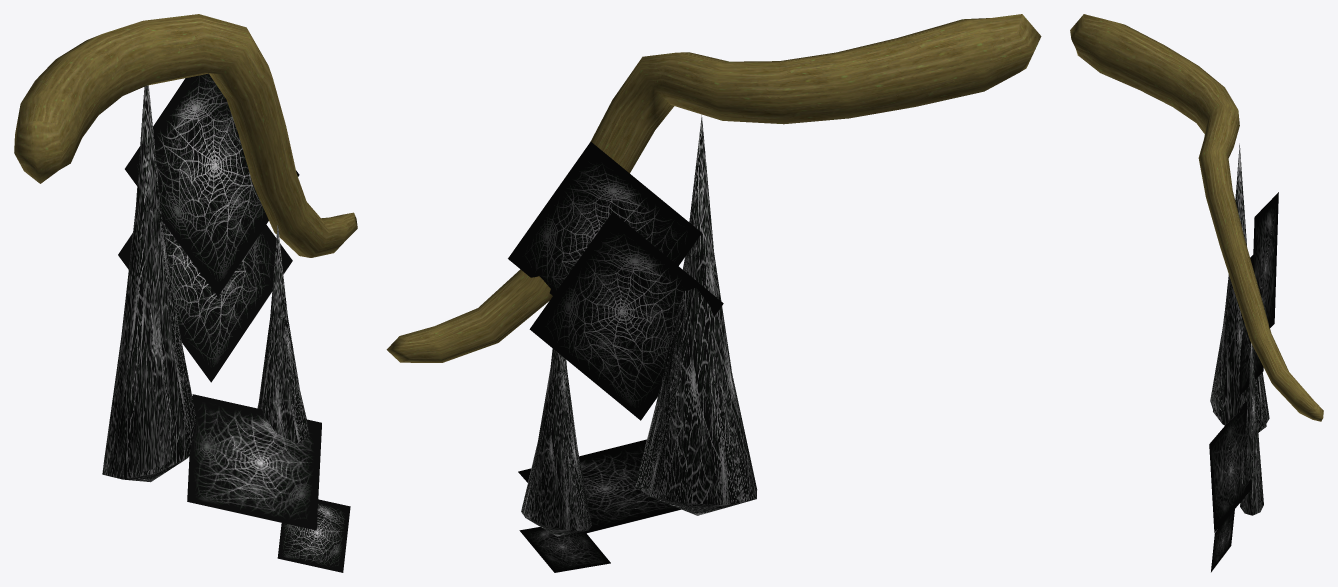
File: INST_MIRK_DEADBRANCH_WEBS.fbx
The picture shows the model from 3 angles, left to right: view 1: azimuth 30°, elevation 25°; view 2: azimuth 150°, elevation 25°; view 3: azimuth 270°, elevation 25°; orthographic projection. The views are drawn at different scales.
Visible parts, largest first — view 1: INST_MIRK_DEADBRANCH_WEBS; view 2: INST_MIRK_DEADBRANCH_WEBS; view 3: INST_MIRK_DEADBRANCH_WEBS.
Boxes of the visible parts, bbox=[...] form: INST_MIRK_DEADBRANCH_WEBS: bbox=[14, 14, 357, 572]; INST_MIRK_DEADBRANCH_WEBS: bbox=[386, 14, 1041, 572]; INST_MIRK_DEADBRANCH_WEBS: bbox=[1070, 14, 1323, 572].
Size of the model in its own units: 117986 by 136712 by 73664.
Materials: 3 (3 with a texture image).
